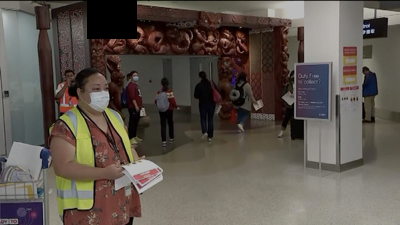with_mask: (83, 81, 112, 113), (133, 73, 139, 81)
